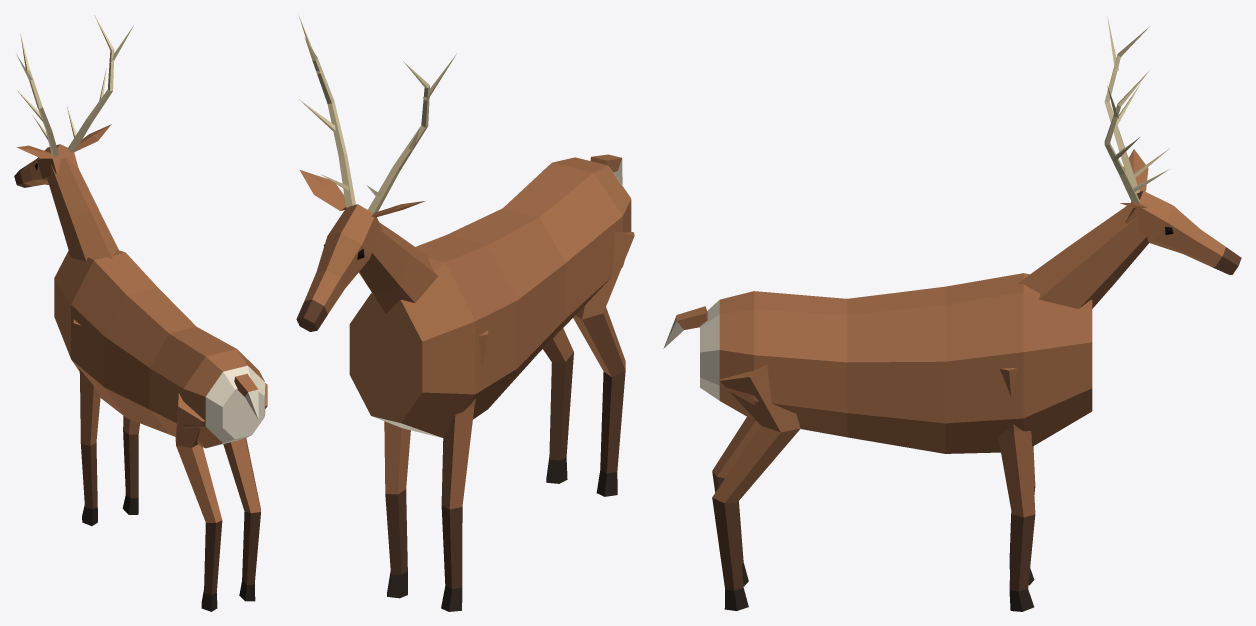
Rendered from deer_buck.glb.
The picture shows the model from 3 angles, left to right: view 1: azimuth 30°, elevation 25°; view 2: azimuth 150°, elevation 25°; view 3: azimuth 270°, elevation 25°; orthographic projection. The views are drawn at different scales.
Parts seen in each view (by area): view 1: Body, Leg_BL, Neck, Leg_BR, Leg_FL, Antlers, Leg_FR, Head, Tail; view 2: Body, Leg_BL, Head, Leg_FL, Neck, Leg_FR, Antlers, Leg_BR, Ear_R; view 3: Body, Leg_BR, Neck, Leg_FR, Head, Antlers, Leg_BL.
Boxes of the visible parts, x1,y1,x2,y2 form: Body: [54, 250, 265, 448]; Leg_BL: [175, 393, 222, 611]; Neck: [47, 157, 118, 261]; Leg_BR: [223, 383, 267, 601]; Leg_FL: [73, 319, 100, 525]; Antlers: [16, 15, 133, 157]; Leg_FR: [122, 416, 139, 514]; Head: [14, 144, 78, 187]; Tail: [234, 373, 258, 419]; Body: [349, 157, 631, 437]; Leg_BL: [573, 231, 634, 496]; Head: [296, 204, 381, 331]; Leg_FL: [441, 330, 488, 611]; Neck: [359, 222, 437, 313]; Leg_FR: [384, 421, 410, 598]; Antlers: [299, 16, 456, 213]; Leg_BR: [543, 328, 573, 483]; Ear_R: [299, 170, 345, 210]; Body: [700, 273, 1092, 453]; Leg_BR: [712, 364, 800, 610]; Neck: [1018, 206, 1148, 308]; Leg_FR: [998, 367, 1035, 611]; Head: [1125, 190, 1241, 274]; Antlers: [1104, 16, 1169, 203]; Leg_BL: [712, 417, 760, 586].
Size of the model in its own units: 0.68 by 2.48 by 2.36.
